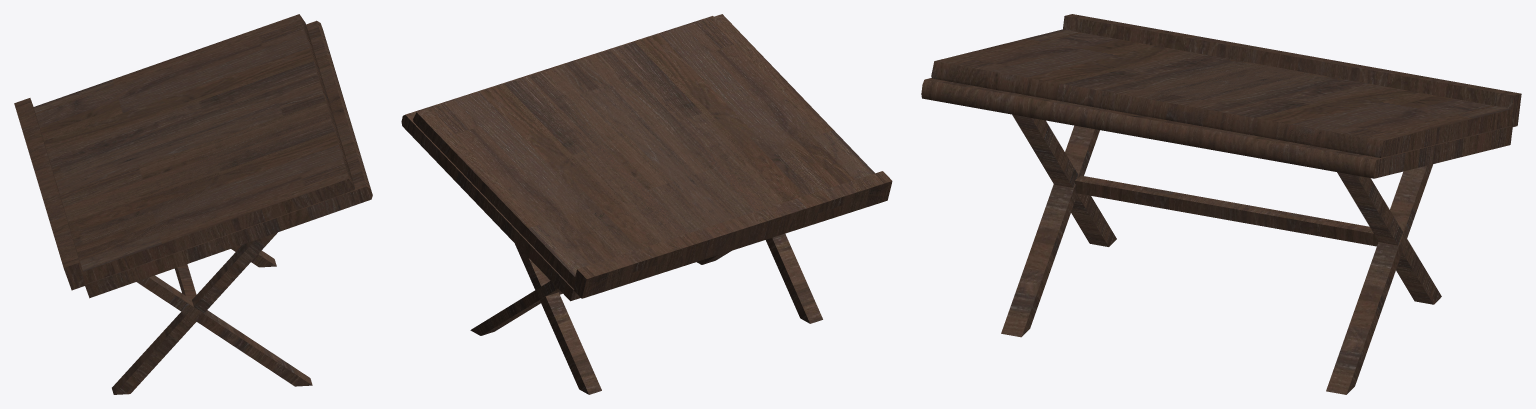
The model's file is Iglesia-SoporteMisal.fbx.
3 views of the same model, side by side, from view 1: azimuth 30°, elevation 25°; view 2: azimuth 150°, elevation 25°; view 3: azimuth 270°, elevation 25° (orthographic). The views are drawn at different scales.
Parts seen in each view (by area): view 1: Cube.018; view 2: Cube.018; view 3: Cube.018.
Part boxes in pixels (bbox=[...]): Cube.018: bbox=[14, 14, 372, 394]; Cube.018: bbox=[401, 14, 892, 394]; Cube.018: bbox=[921, 14, 1521, 394].
Size of the model in its own units: 0.5404 by 0.3041 by 0.5947.
